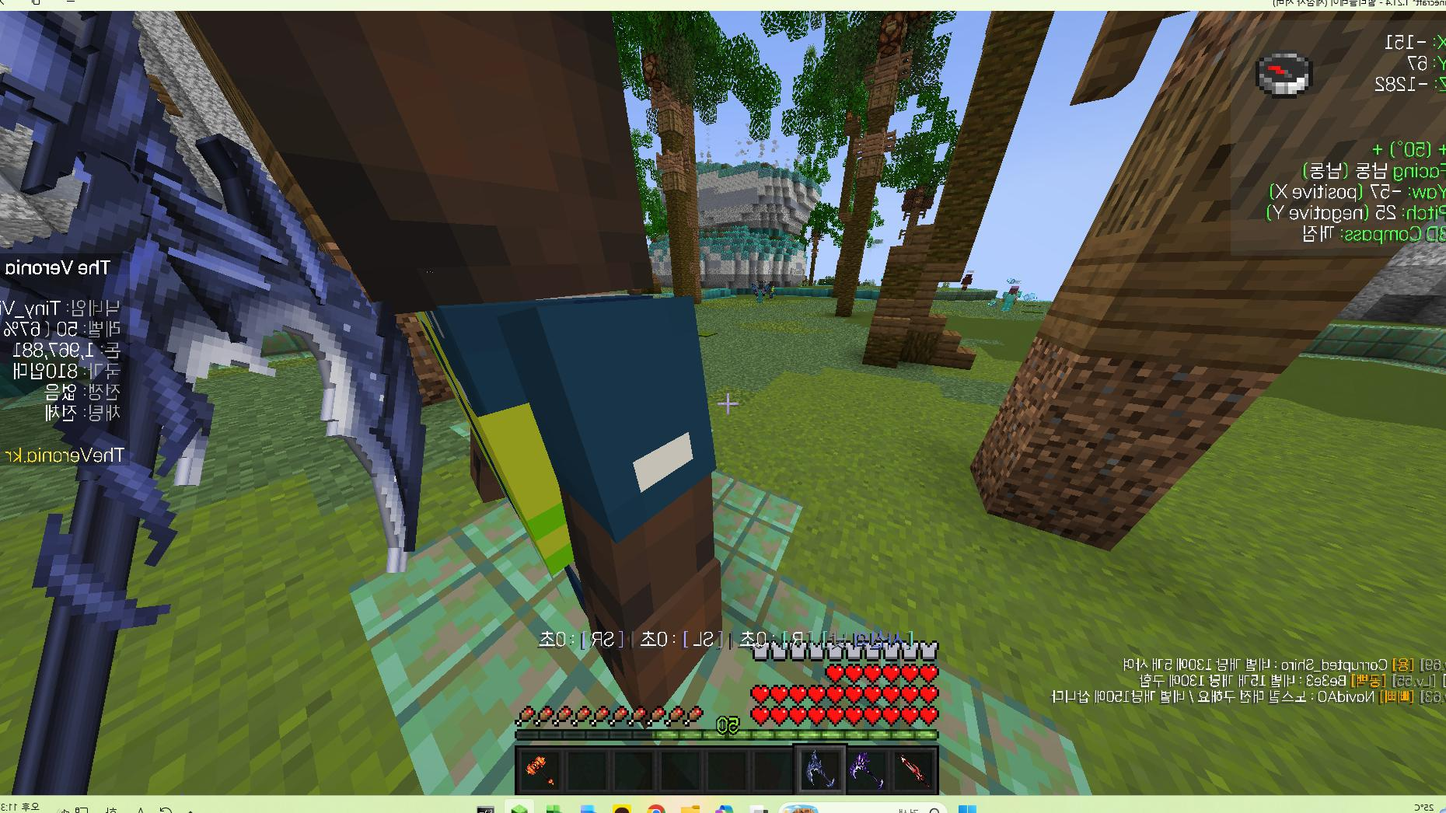Guardian: (323, 34, 721, 709)
